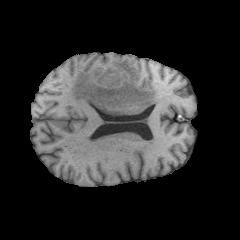glioma: (72, 59, 156, 114)
